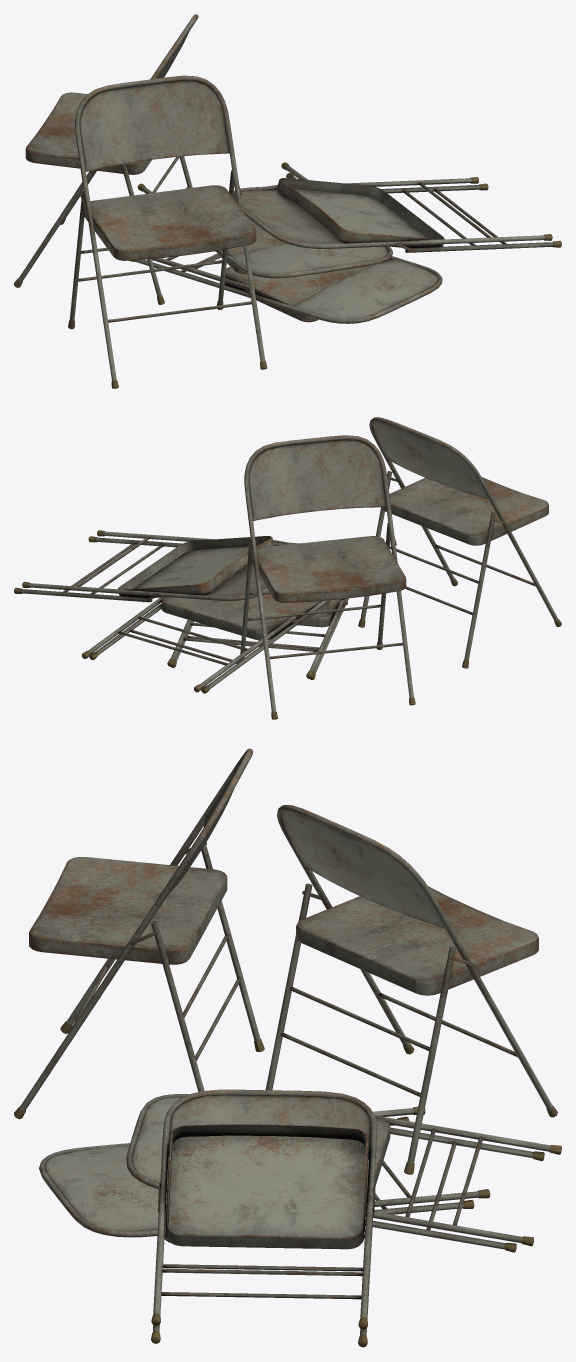
3 renders of one model, top to bottom at view 1: azimuth 30°, elevation 25°; view 2: azimuth 150°, elevation 25°; view 3: azimuth 270°, elevation 25°, orthographic. The views are drawn at different scales.
Visible parts, largest first — view 1: Back_low, Seat_low, Folded_Seat_low_Mat_Folding_Chair_Folded_0.002, Folded_Back_low, Legs_Front_low, Seat_low_Mat_Folding_Chair_0.001, Folded_Back_low_Mat_Folding_Chair_Folded_0.001, Folded_Back_low_Mat_Folding_Chair_Folded_0.002, Folded_Seat_low, Folded_Legs_Front_low_Mat_Folding_Chair_Folded_0.002, Folded_Legs_Front_low, Folded_Legs_Back_low_Mat_Folding_Chair_Folded_0.002 (+8 smaller); view 2: Back_low_Mat_Folding_Chair_0.001, Seat_low_Mat_Folding_Chair_0.001, Seat_low, Folded_Seat_low_Mat_Folding_Chair_Folded_0.002, Back_low, Folded_Seat_low_Mat_Folding_Chair_Folded_0.001, Legs_Front_low_Mat_Folding_Chair_0.001, Legs_Front_low, Folded_Legs_Front_low_Mat_Folding_Chair_Folded_0.002, Folded_Legs_Front_low_Mat_Folding_Chair_Folded_0.001, Legs_Back_low, Folded_Legs_Back_low_Mat_Folding_Chair_Folded_0.001 (+11 smaller); view 3: Folded_Seat_low_Mat_Folding_Chair_Folded_0.002, Seat_low, Seat_low_Mat_Folding_Chair_0.001, Back_low_Mat_Folding_Chair_0.001, Folded_Back_low, Folded_Back_low_Mat_Folding_Chair_Folded_0.002, Folded_Legs_Front_low_Mat_Folding_Chair_Folded_0.002, Legs_Front_low, Legs_Front_low_Mat_Folding_Chair_0.001, Legs_Back_low_Mat_Folding_Chair_0.001, Folded_Legs_Front_low_Mat_Folding_Chair_Folded_0.001, Legs_Back_low (+9 smaller).
Boxes of the visible parts, x1,y1,x2,y2 form: Back_low: (80,80,229,171); Seat_low: (84,185,256,260); Folded_Seat_low_Mat_Folding_Chair_Folded_0.002: (277,178,444,247); Folded_Back_low: (293,258,437,319); Legs_Front_low: (75,75,267,388); Seat_low_Mat_Folding_Chair_0.001: (25,92,151,174); Folded_Back_low_Mat_Folding_Chair_Folded_0.001: (230,243,388,273); Folded_Back_low_Mat_Folding_Chair_Folded_0.002: (233,189,351,244); Folded_Seat_low: (224,259,390,322); Folded_Legs_Front_low_Mat_Folding_Chair_Folded_0.002: (233,177,552,248); Folded_Legs_Front_low: (128,256,442,323); Folded_Legs_Back_low_Mat_Folding_Chair_Folded_0.002: (381,183,561,252); Back_low_Mat_Folding_Chair_0.001: (248,439,386,520); Seat_low_Mat_Folding_Chair_0.001: (252,536,406,602); Seat_low: (382,477,548,545); Folded_Seat_low_Mat_Folding_Chair_Folded_0.002: (118,536,274,597); Back_low: (372,422,488,499); Folded_Seat_low_Mat_Folding_Chair_Folded_0.001: (161,571,329,640); Legs_Front_low_Mat_Folding_Chair_0.001: (244,435,415,719); Legs_Front_low: (369,417,561,626); Folded_Legs_Front_low_Mat_Folding_Chair_Folded_0.002: (22,530,288,600); Folded_Legs_Front_low_Mat_Folding_Chair_Folded_0.001: (89,540,330,693); Legs_Back_low: (358,471,495,668); Folded_Legs_Back_low_Mat_Folding_Chair_Folded_0.001: (81,597,295,692); Folded_Seat_low_Mat_Folding_Chair_Folded_0.002: (165,1124,368,1249); Seat_low: (29,857,227,964); Seat_low_Mat_Folding_Chair_0.001: (296,886,538,995); Back_low_Mat_Folding_Chair_0.001: (281,811,444,928); Folded_Back_low: (45,1145,166,1231); Folded_Back_low_Mat_Folding_Chair_Folded_0.002: (168,1094,370,1159); Folded_Legs_Front_low_Mat_Folding_Chair_Folded_0.002: (151,1089,377,1329); Legs_Front_low: (14,748,252,1119); Legs_Front_low_Mat_Folding_Chair_0.001: (277,805,557,1117); Legs_Back_low_Mat_Folding_Chair_0.001: (265,883,456,1174); Folded_Legs_Front_low_Mat_Folding_Chair_Folded_0.001: (126,1094,544,1252); Legs_Back_low: (151,843,264,1091).
Size of the model in its own units: 3.5 by 1.64 by 2.55.
2 materials, 2 textured.
